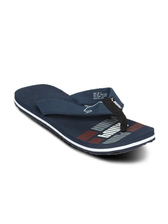shoes: (11, 78, 160, 160)
